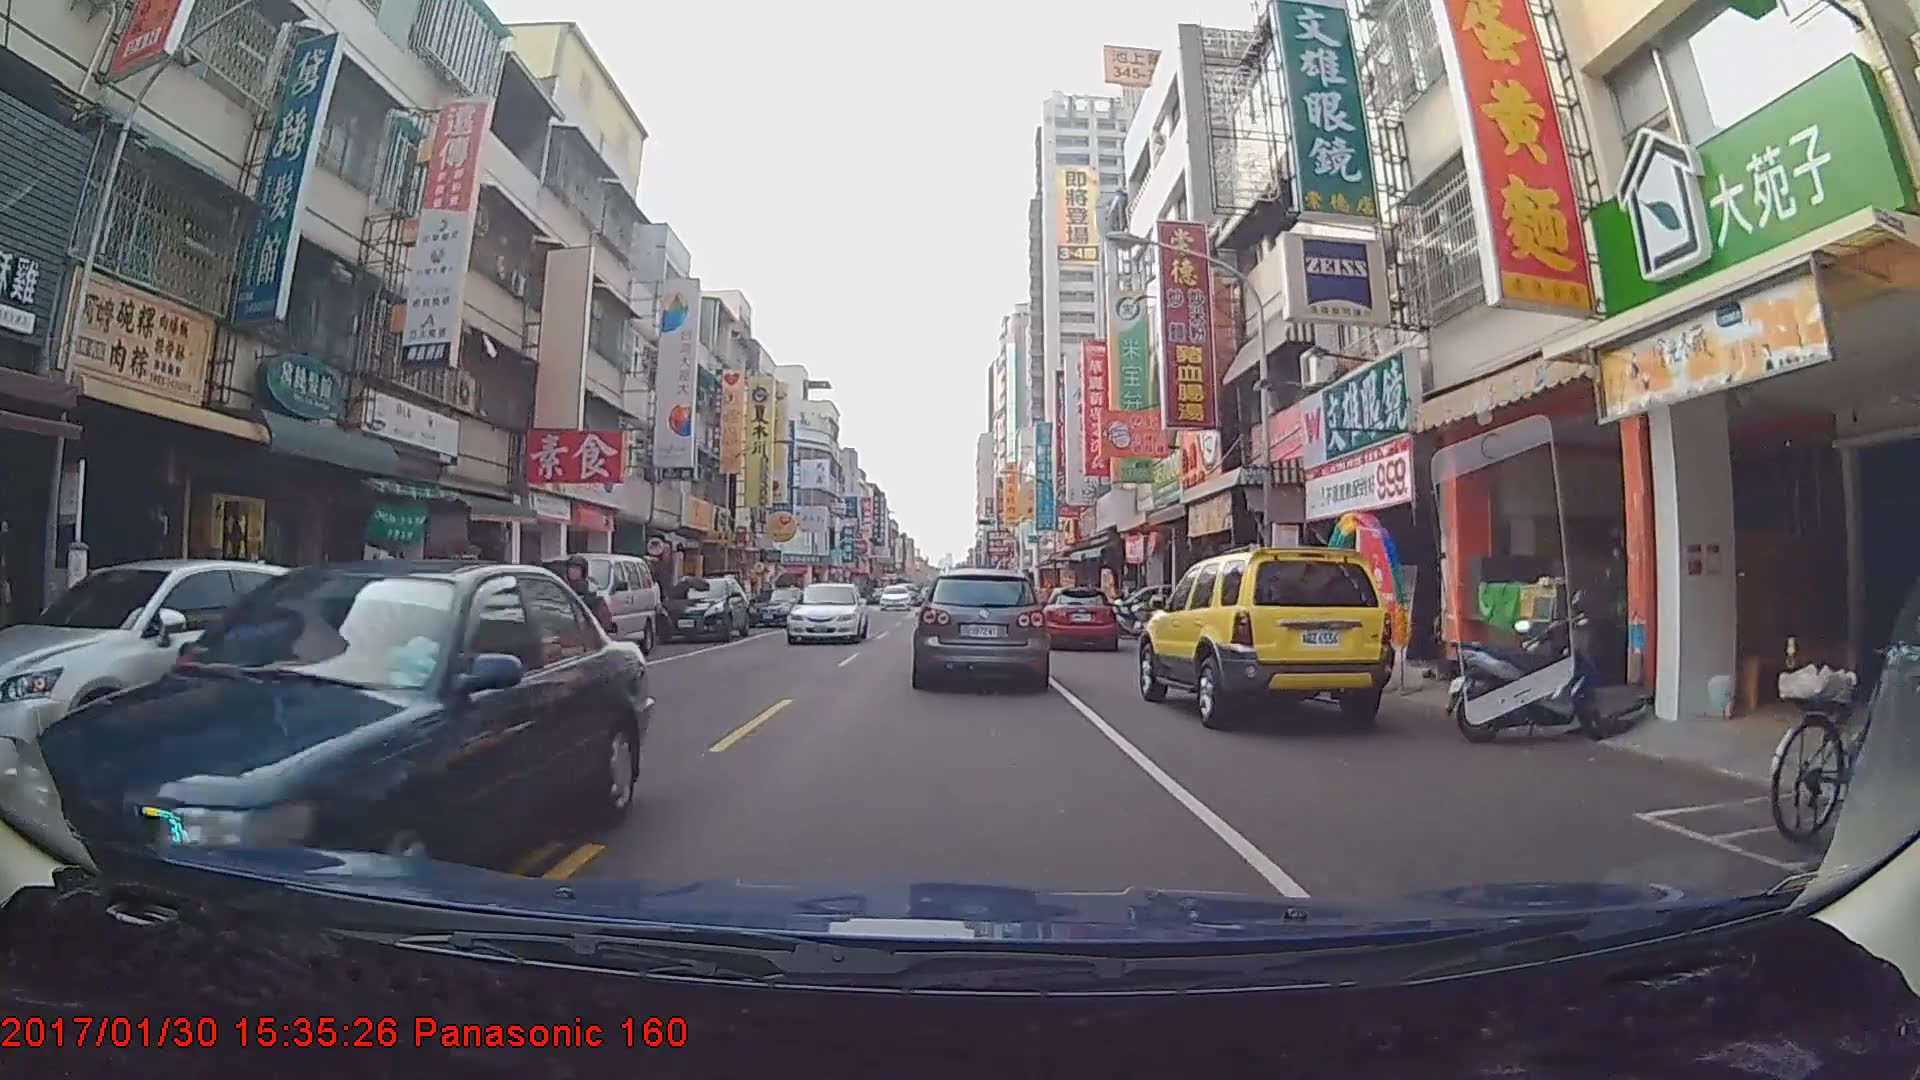vehicle: (38, 556, 651, 922), (0, 559, 372, 799), (1141, 542, 1393, 725), (913, 567, 1048, 688), (517, 553, 654, 662), (651, 575, 749, 642), (1038, 587, 1120, 651), (785, 582, 868, 644), (748, 588, 808, 630), (880, 585, 911, 611)
